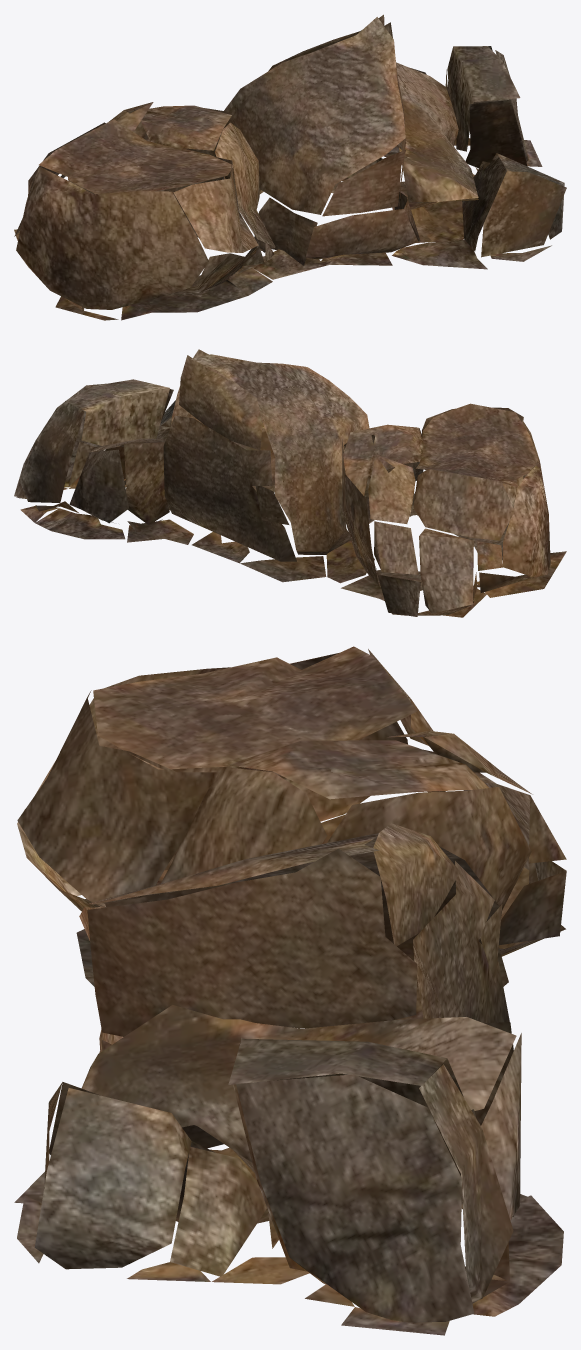
File: rock02.glb
3 views of the same model, one above another, from view 1: azimuth 30°, elevation 25°; view 2: azimuth 150°, elevation 25°; view 3: azimuth 270°, elevation 25° (orthographic). The views are drawn at different scales.
Parts seen in each view (by area): view 1: boulder_02; view 2: boulder_02; view 3: boulder_02.
Boxes of the visible parts, x1,y1,x2,y2 form: boulder_02: (14,14,566,320); boulder_02: (14,349,566,617); boulder_02: (14,646,566,1335).
Size of the model in its own units: 2.93 by 1 by 1.42.
Materials: 1 (1 with a texture image).
